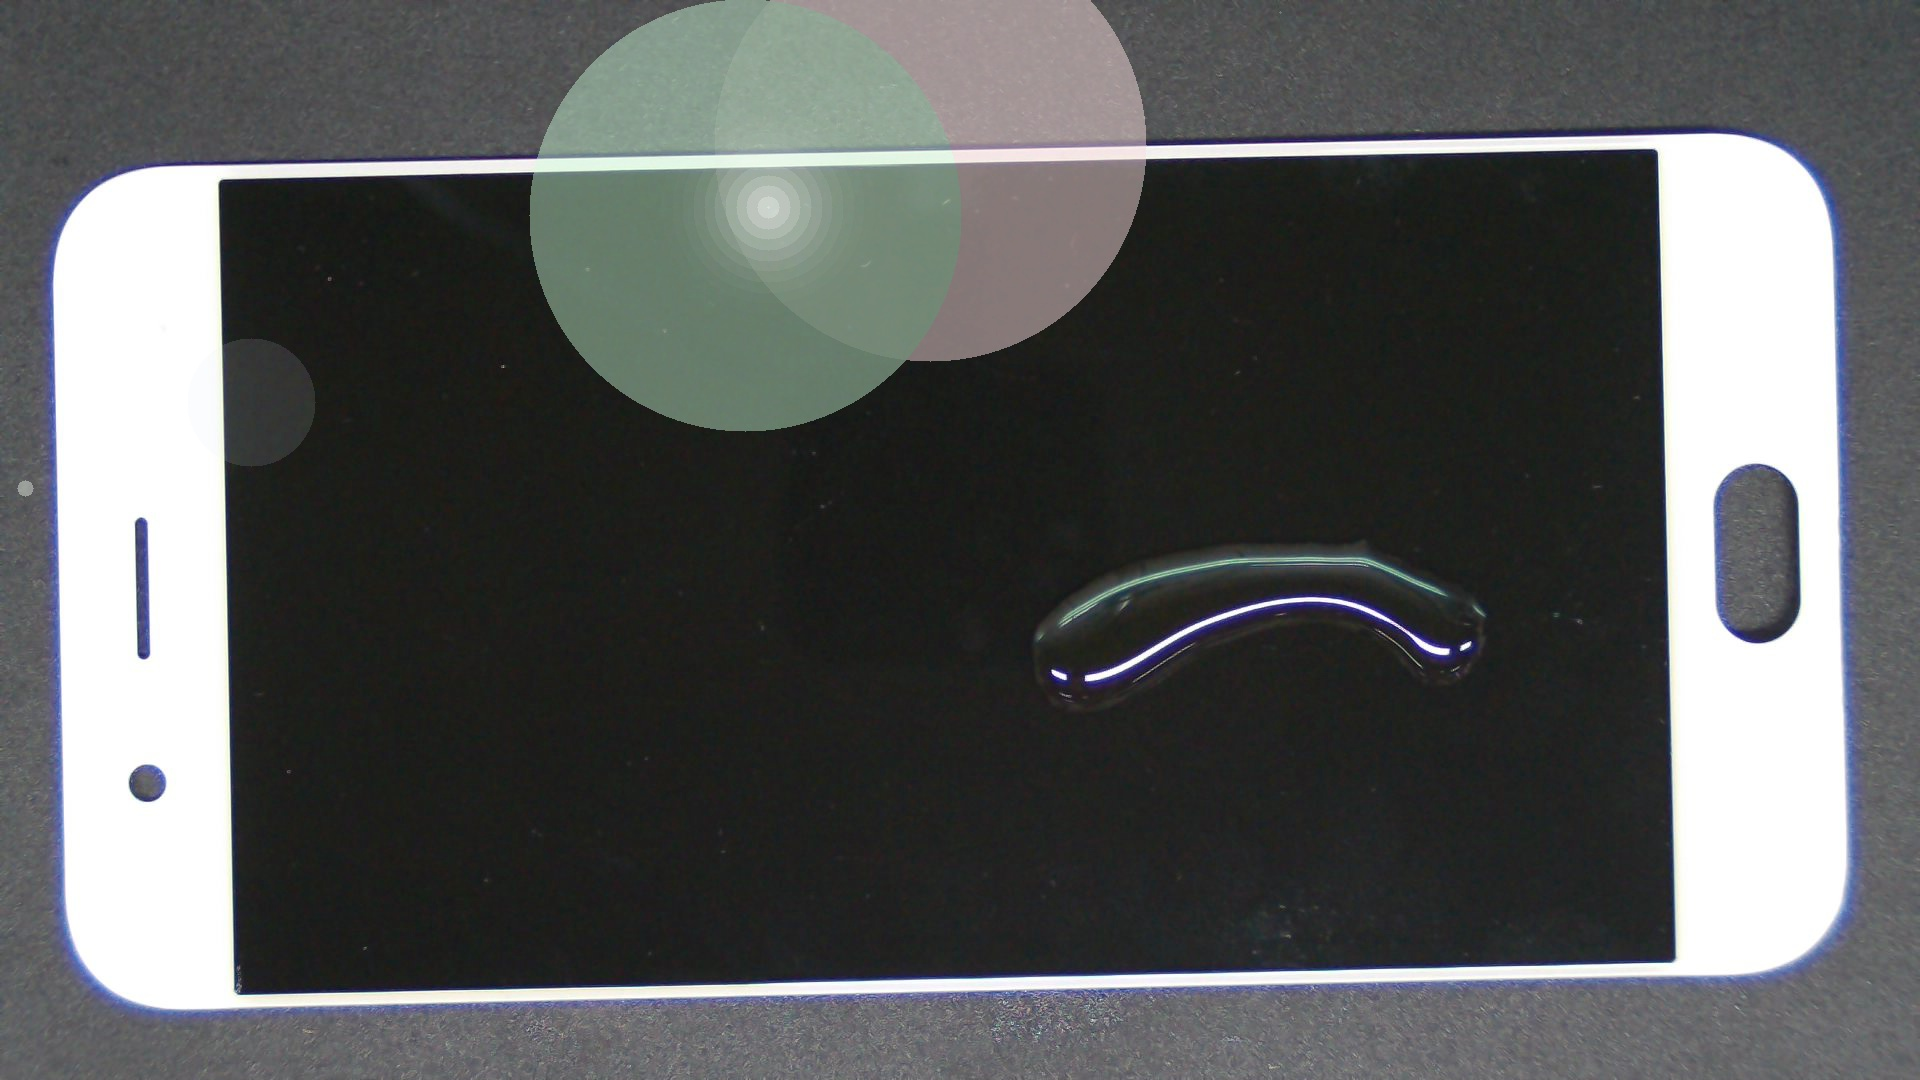oil: (682, 269, 1920, 808)
